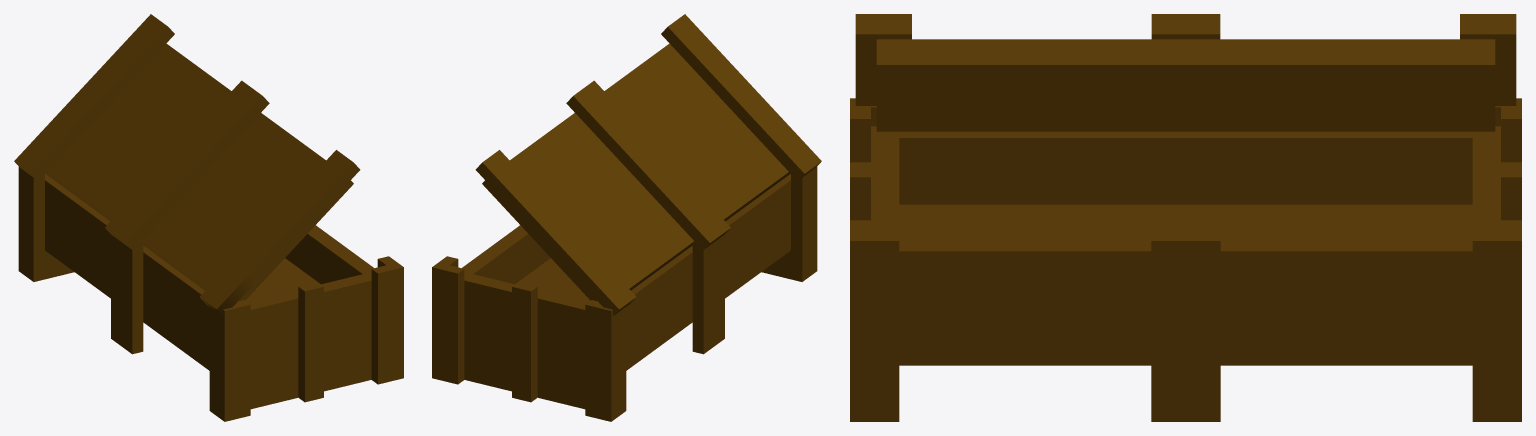
The model's file is caja_abierta.fbx.
3 views of the same model, side by side, from view 1: azimuth 30°, elevation 25°; view 2: azimuth 150°, elevation 25°; view 3: azimuth 270°, elevation 25° (orthographic). The views are drawn at different scales.
Visible parts, largest first — view 1: polySurface5, polySurface6; view 2: polySurface5, polySurface6; view 3: polySurface6, polySurface5.
Boxes of the visible parts, x1,y1,x2,y2 form: polySurface5: [14, 14, 360, 315]; polySurface6: [18, 166, 403, 421]; polySurface5: [475, 14, 821, 315]; polySurface6: [432, 166, 817, 421]; polySurface6: [850, 98, 1521, 421]; polySurface5: [855, 14, 1516, 131].
Size of the model in its own units: 3.33 by 3.89 by 6.41.
